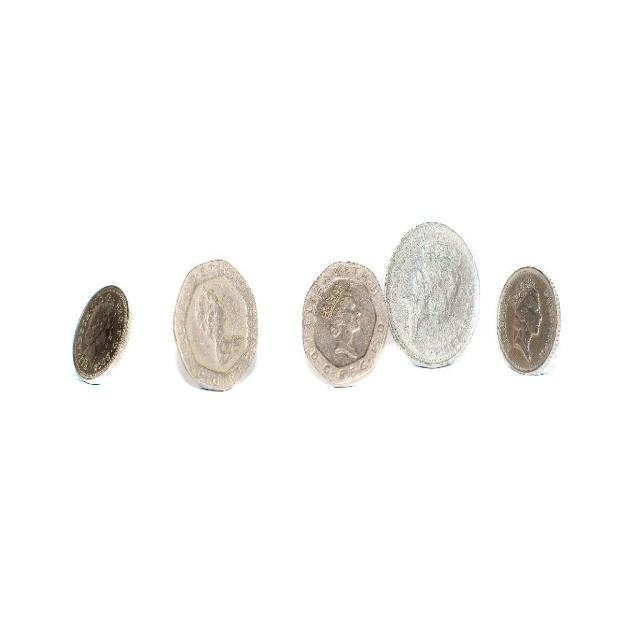Coin: (384, 221, 480, 363), (167, 261, 258, 393), (298, 264, 387, 387), (493, 266, 562, 368), (70, 281, 129, 378)
